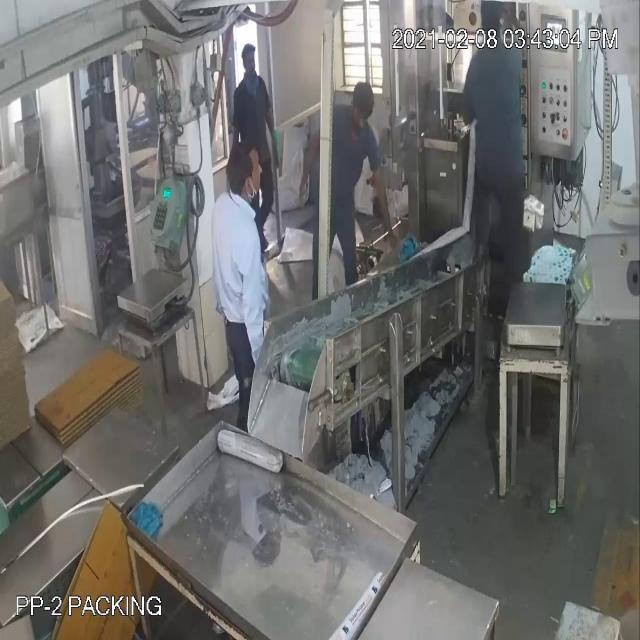No_Gloves: (29, 113, 382, 306)
